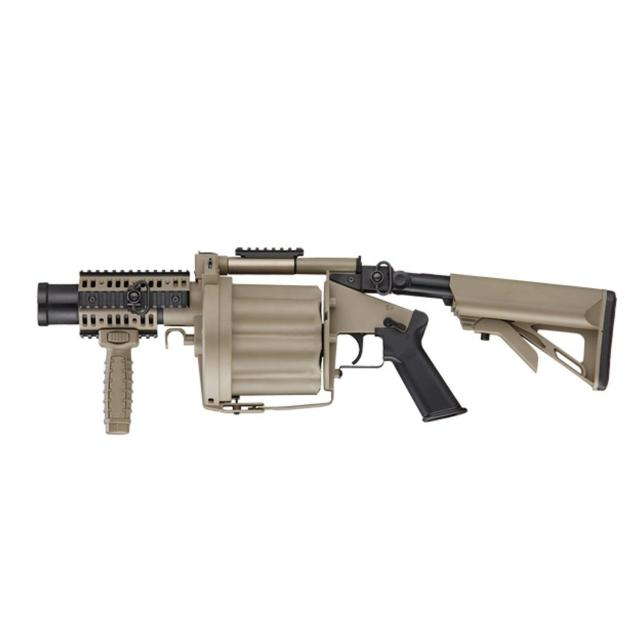weapon: (33, 231, 620, 448)
